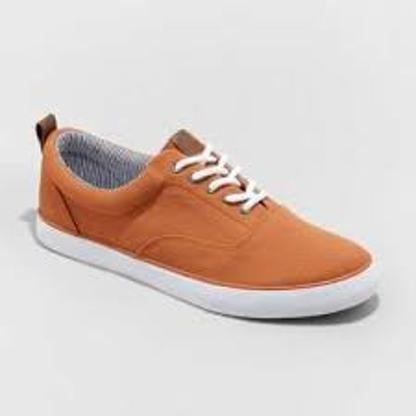not trash: (27, 109, 384, 321)
